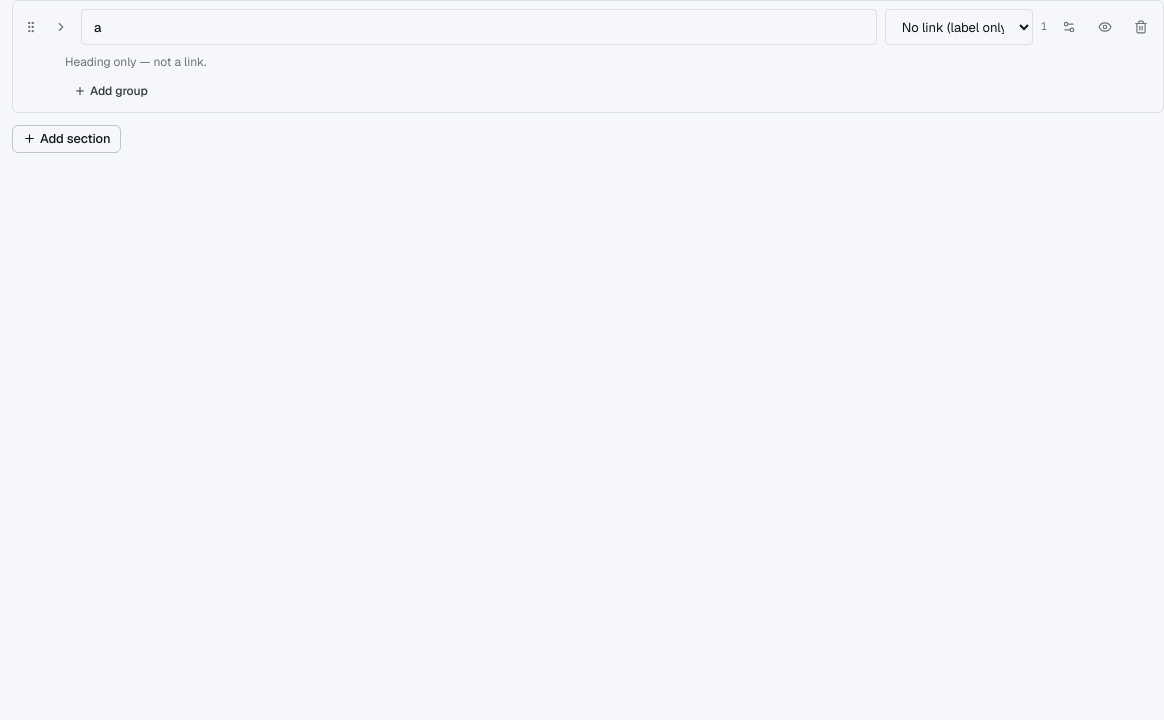
Test: NavTreeEditor › marks a row the storefront will never draw
Click the button named "Expand a": (61,27) [49,13,73,41]
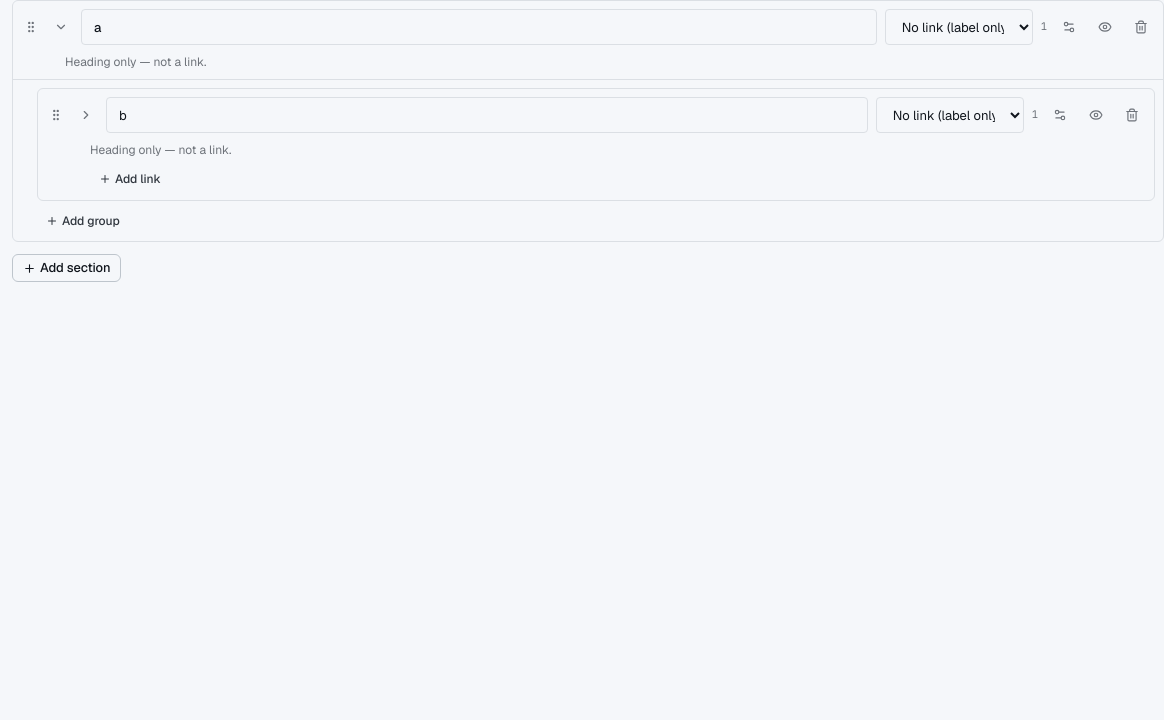
Click the button named "Expand b": (86,115) [74,101,98,129]
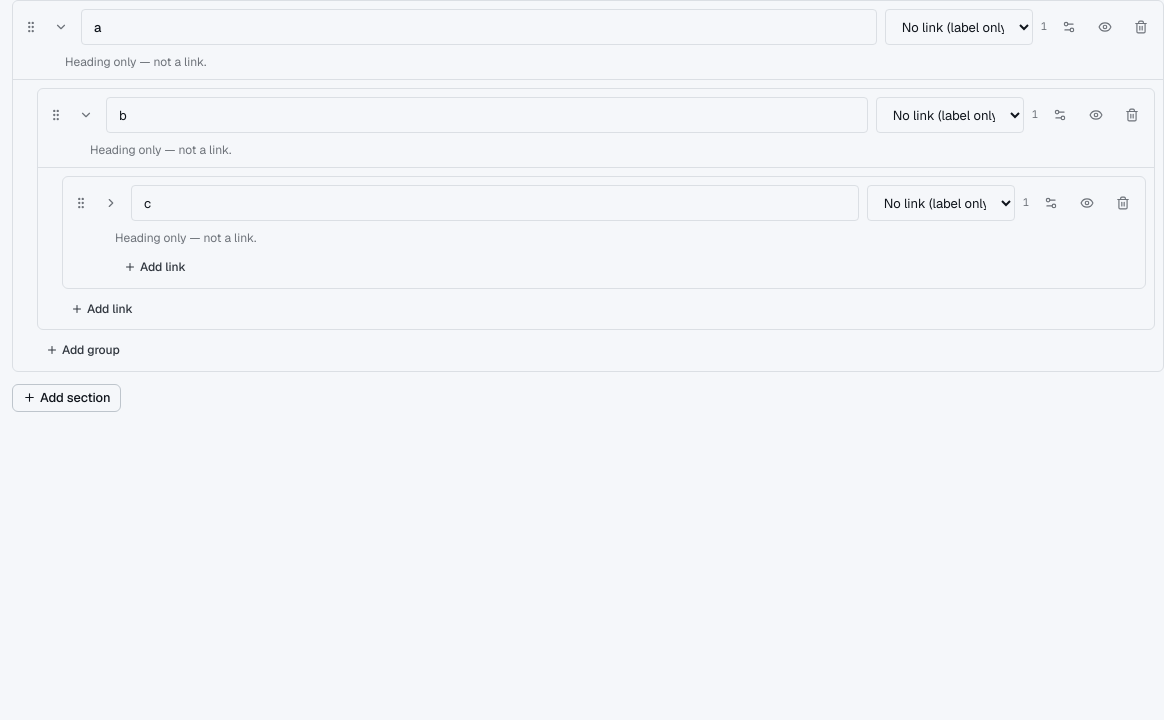
Click the button named "Expand c": (111,203) [99,189,123,217]
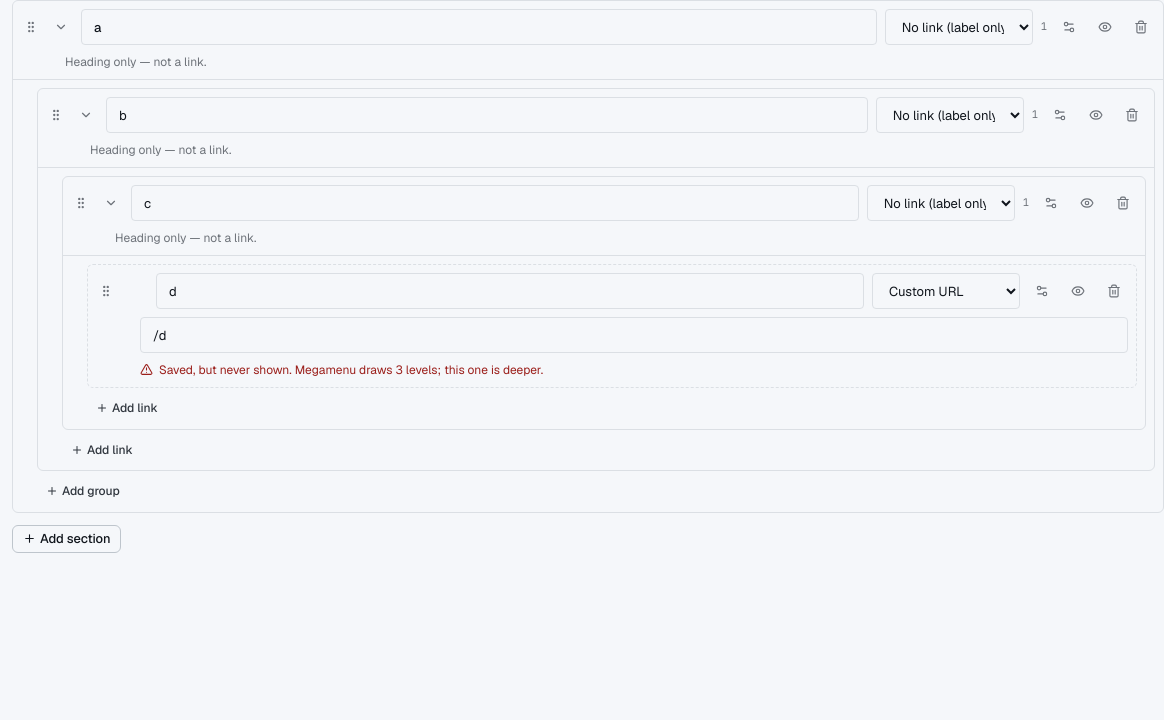
Check: the text "Saved, but never shown" is shown, box [159,362,295,378]
